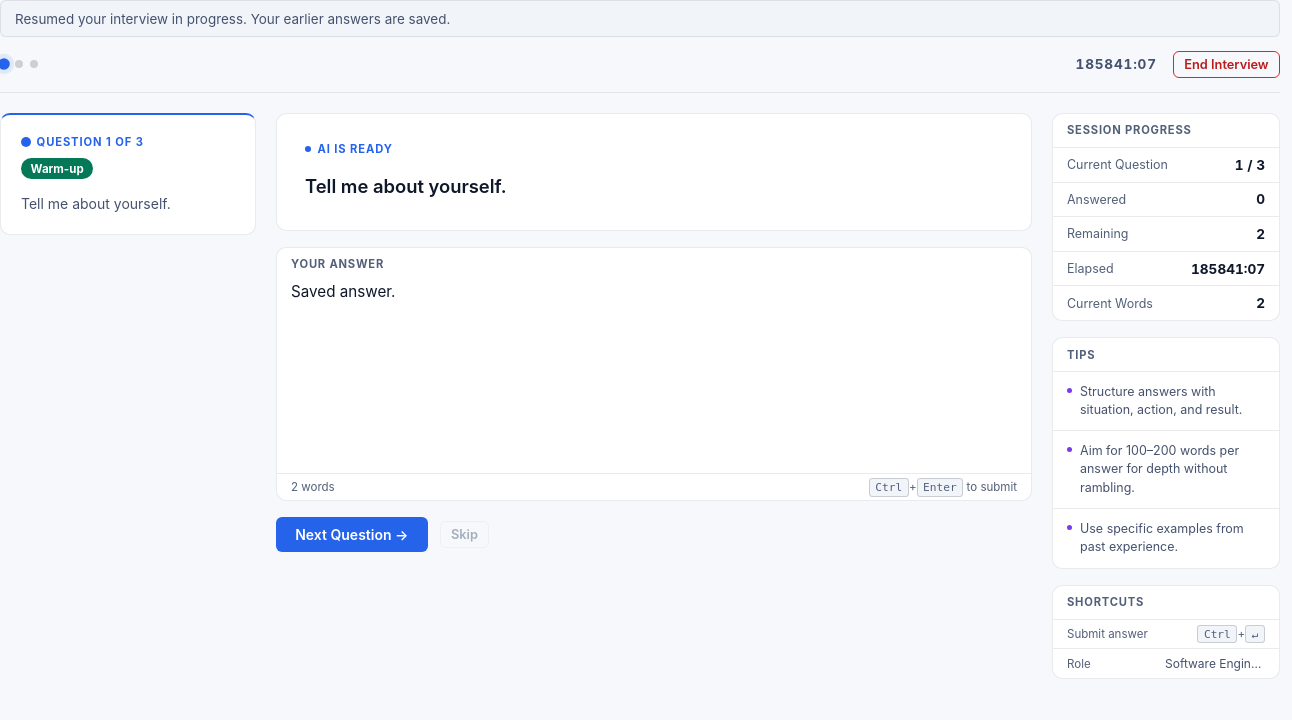
it: LiveInterviewPage › Next question (retry safety) › when an earlier answer to the same question is already saved › continues with the saved answer only when the candidate presses Next
The width and height of the screenshot is (1292, 720).
Expected: the text with test id "current-question" is shown, [305,175,506,197]
Replace the text in the text box named "your answer" with "Edited answer.": (654, 370) [277,271,1031,468]
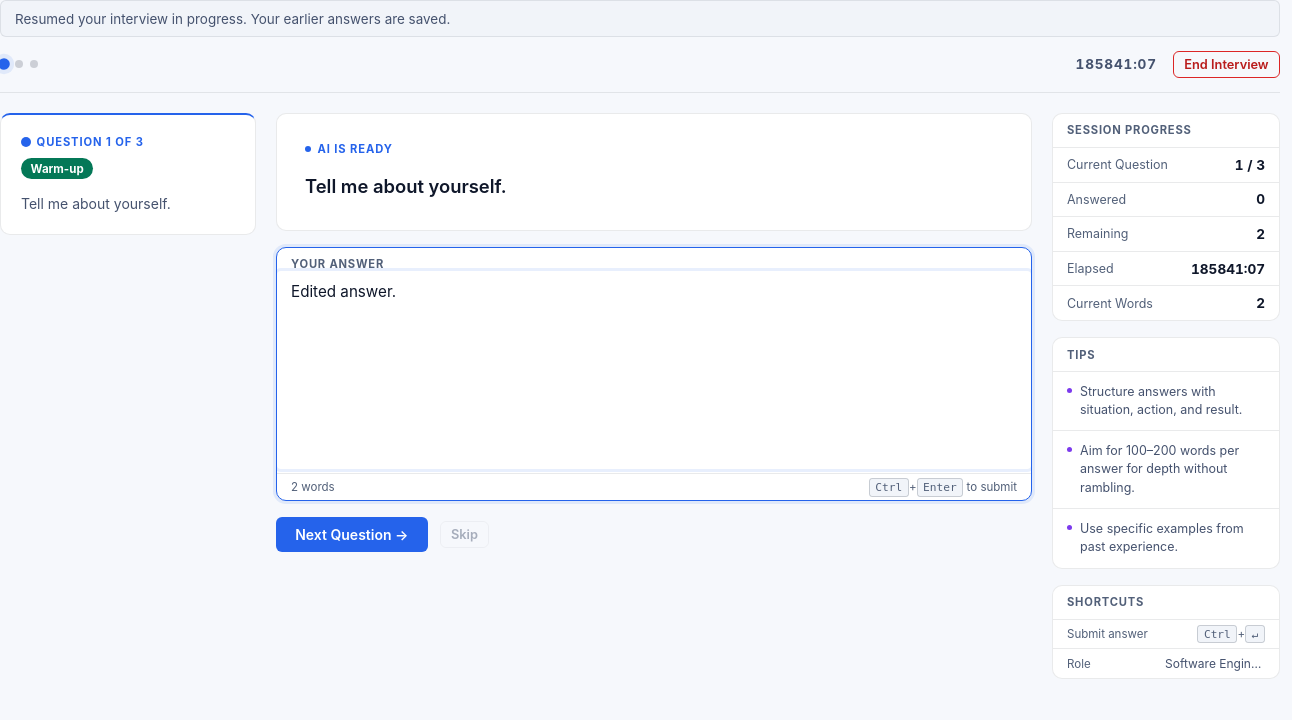
Click the button "Next Question →": (352, 535) [276,517,428,552]
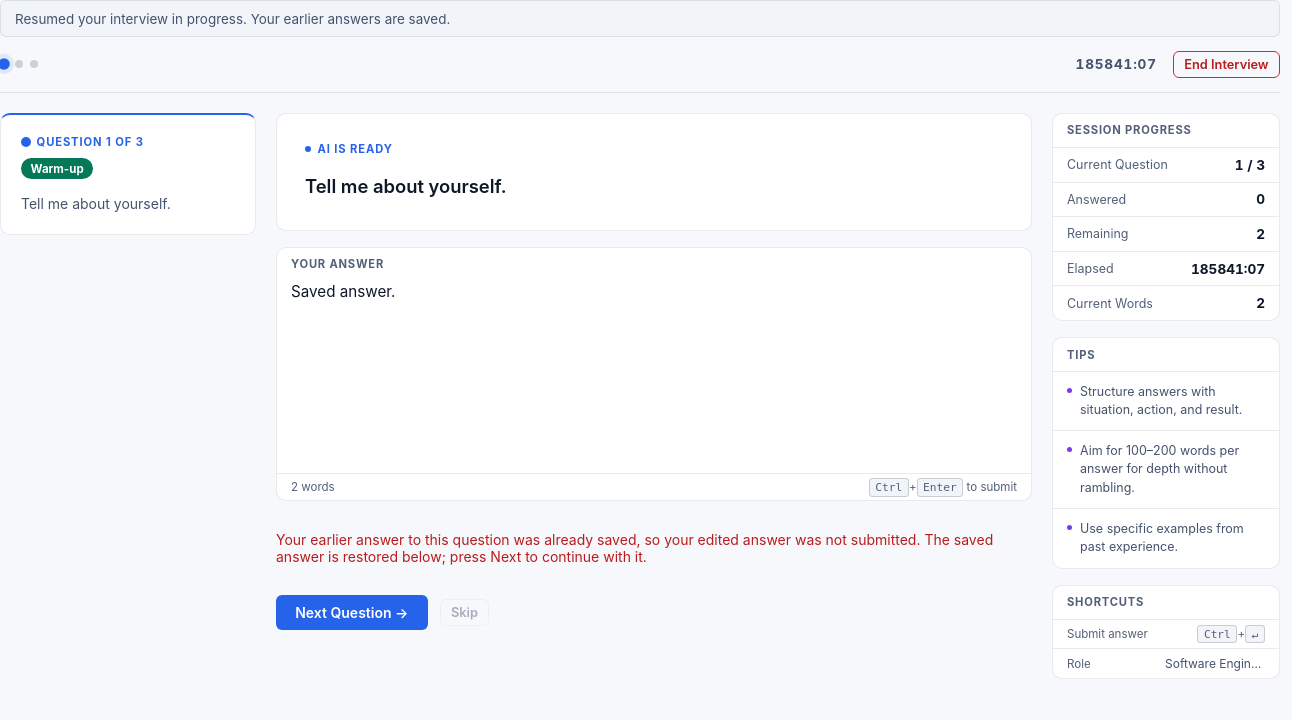
Expected: the text "earlier answer to this question was already saved" is shown, [276,531,993,565]
Click the button "Next Question →": (352, 613) [276,595,428,630]
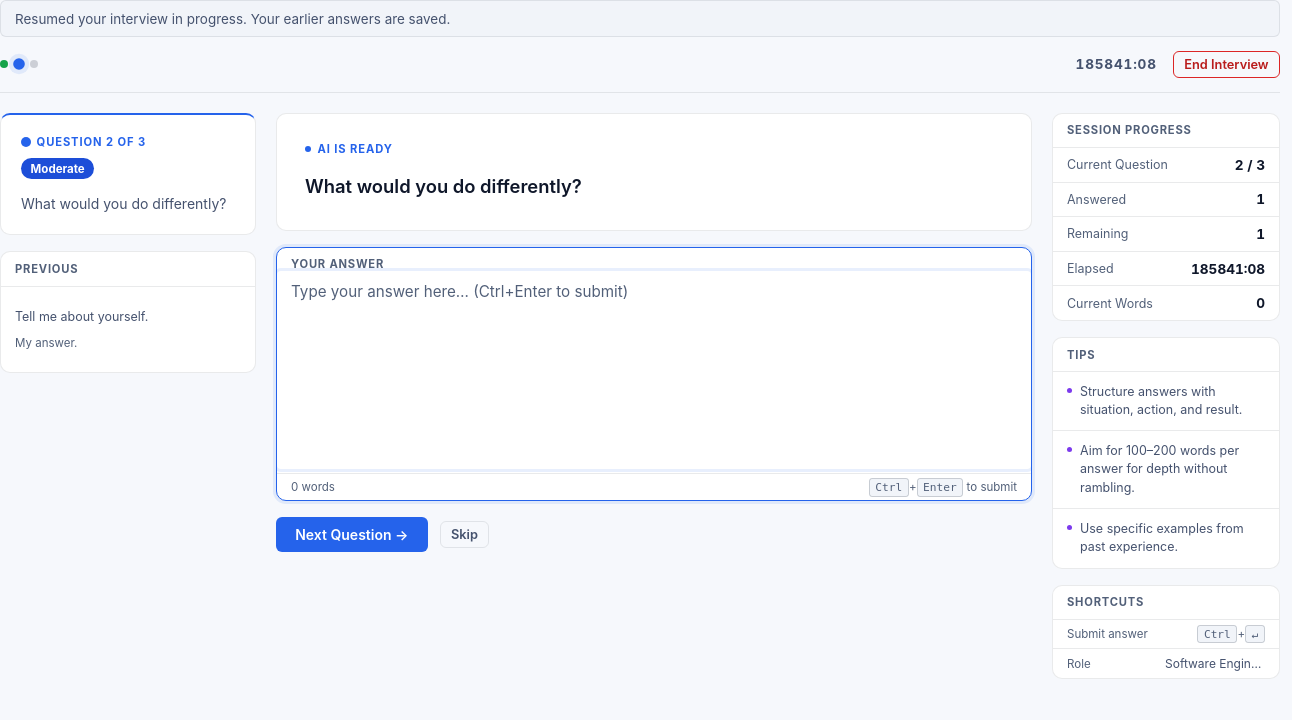
Expected: the text with test id "current-question" reads "What would you do differently?", [305,175,582,197]
